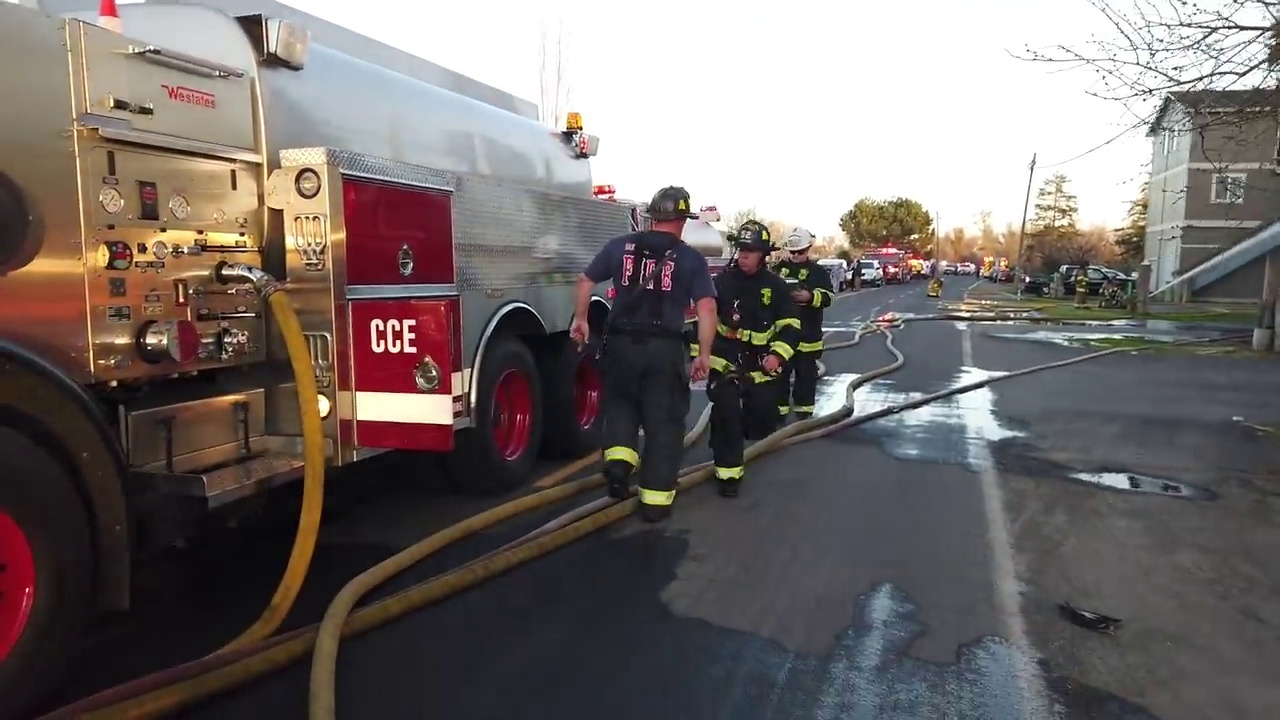fire: (981, 254, 993, 268)
